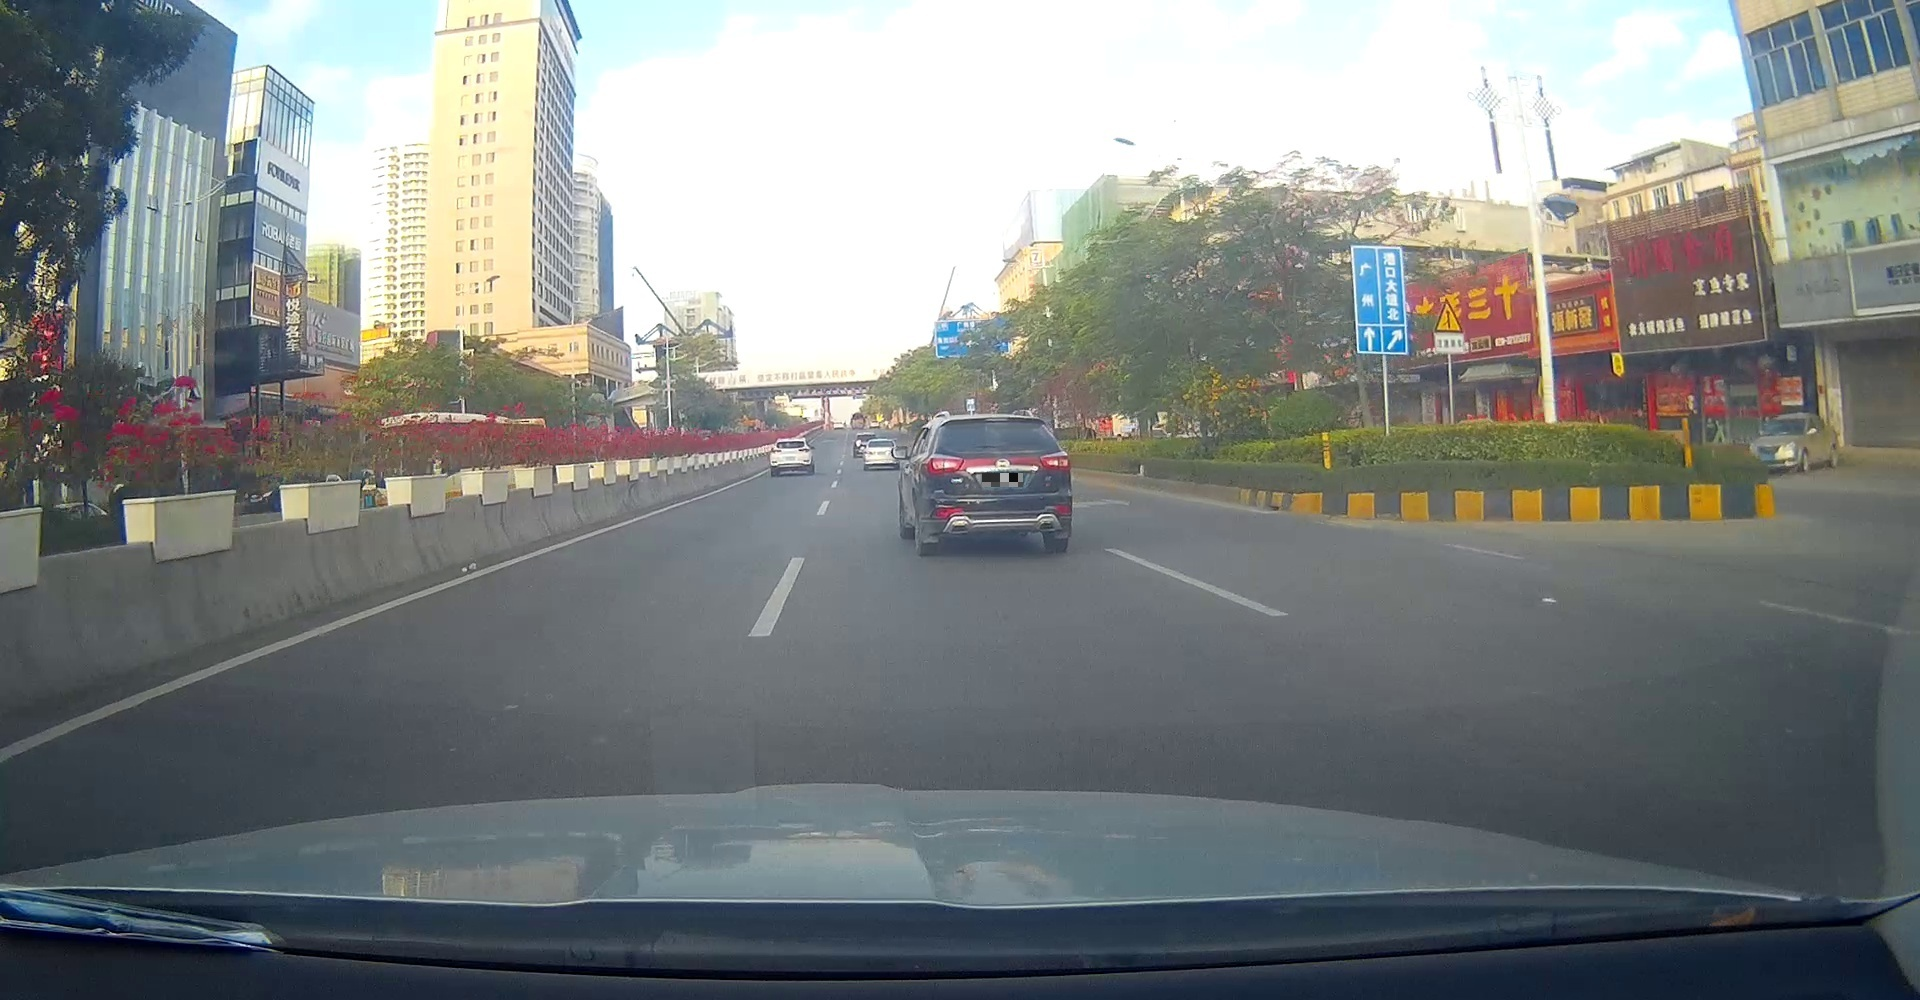L_light: (924, 454, 964, 475), (770, 448, 781, 453)
R_light: (1039, 451, 1070, 471), (797, 448, 810, 453)
T_light: (985, 418, 1008, 423), (789, 442, 794, 443)
day-no: (924, 409, 1073, 557), (770, 438, 811, 476)
plate_1: (982, 473, 1023, 487)
